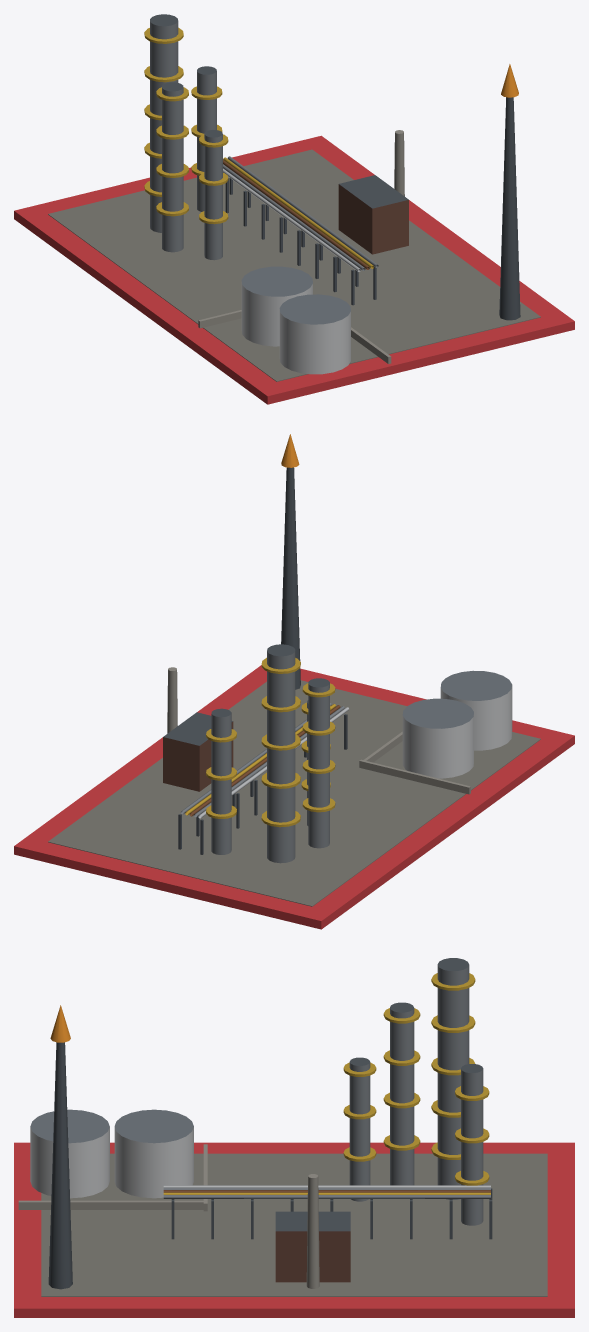
Rendered from refinery_red.glb.
The picture shows the model from 3 angles, top to bottom: view 1: azimuth 30°, elevation 25°; view 2: azimuth 150°, elevation 25°; view 3: azimuth 270°, elevation 25°; orthographic projection. The views are drawn at different scales.
Visible parts, largest first — view 1: refinery_red; view 2: refinery_red; view 3: refinery_red.
Part boxes in pixels (x1=…): refinery_red: x1=14, y1=14, x2=574, y2=404; refinery_red: x1=14, y1=434, x2=574, y2=929; refinery_red: x1=14, y1=958, x2=574, y2=1317.
Bounding box in the file's own units: 84 × 68.35 × 120.
